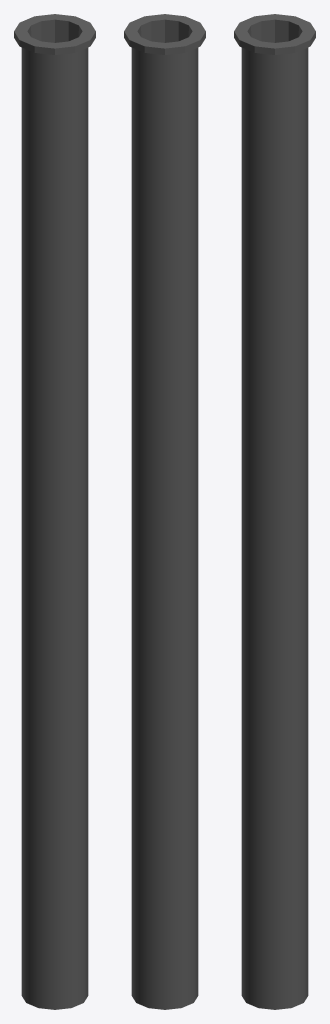
File: SM_pipe_01.fbx
The picture shows the model from 3 angles, left to right: view 1: azimuth 30°, elevation 25°; view 2: azimuth 210°, elevation 25°; view 3: azimuth 270°, elevation 25°; orthographic projection.
Visible parts, largest first — view 1: pipe_01; view 2: pipe_01; view 3: pipe_01.
Boxes of the visible parts, bbox=[...] form: pipe_01: bbox=[14, 14, 95, 1009]; pipe_01: bbox=[124, 14, 205, 1009]; pipe_01: bbox=[234, 14, 315, 1009].
Size of the model in its own units: 18.09 by 235 by 18.09.
